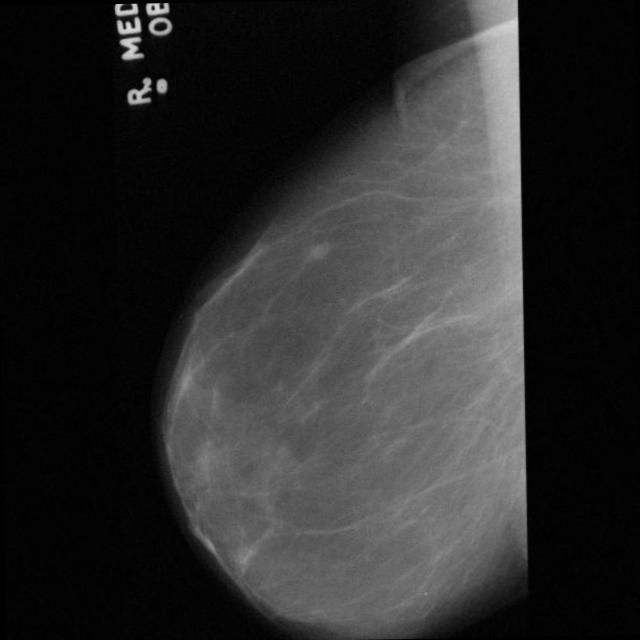SPIC: (300, 232, 338, 272)
